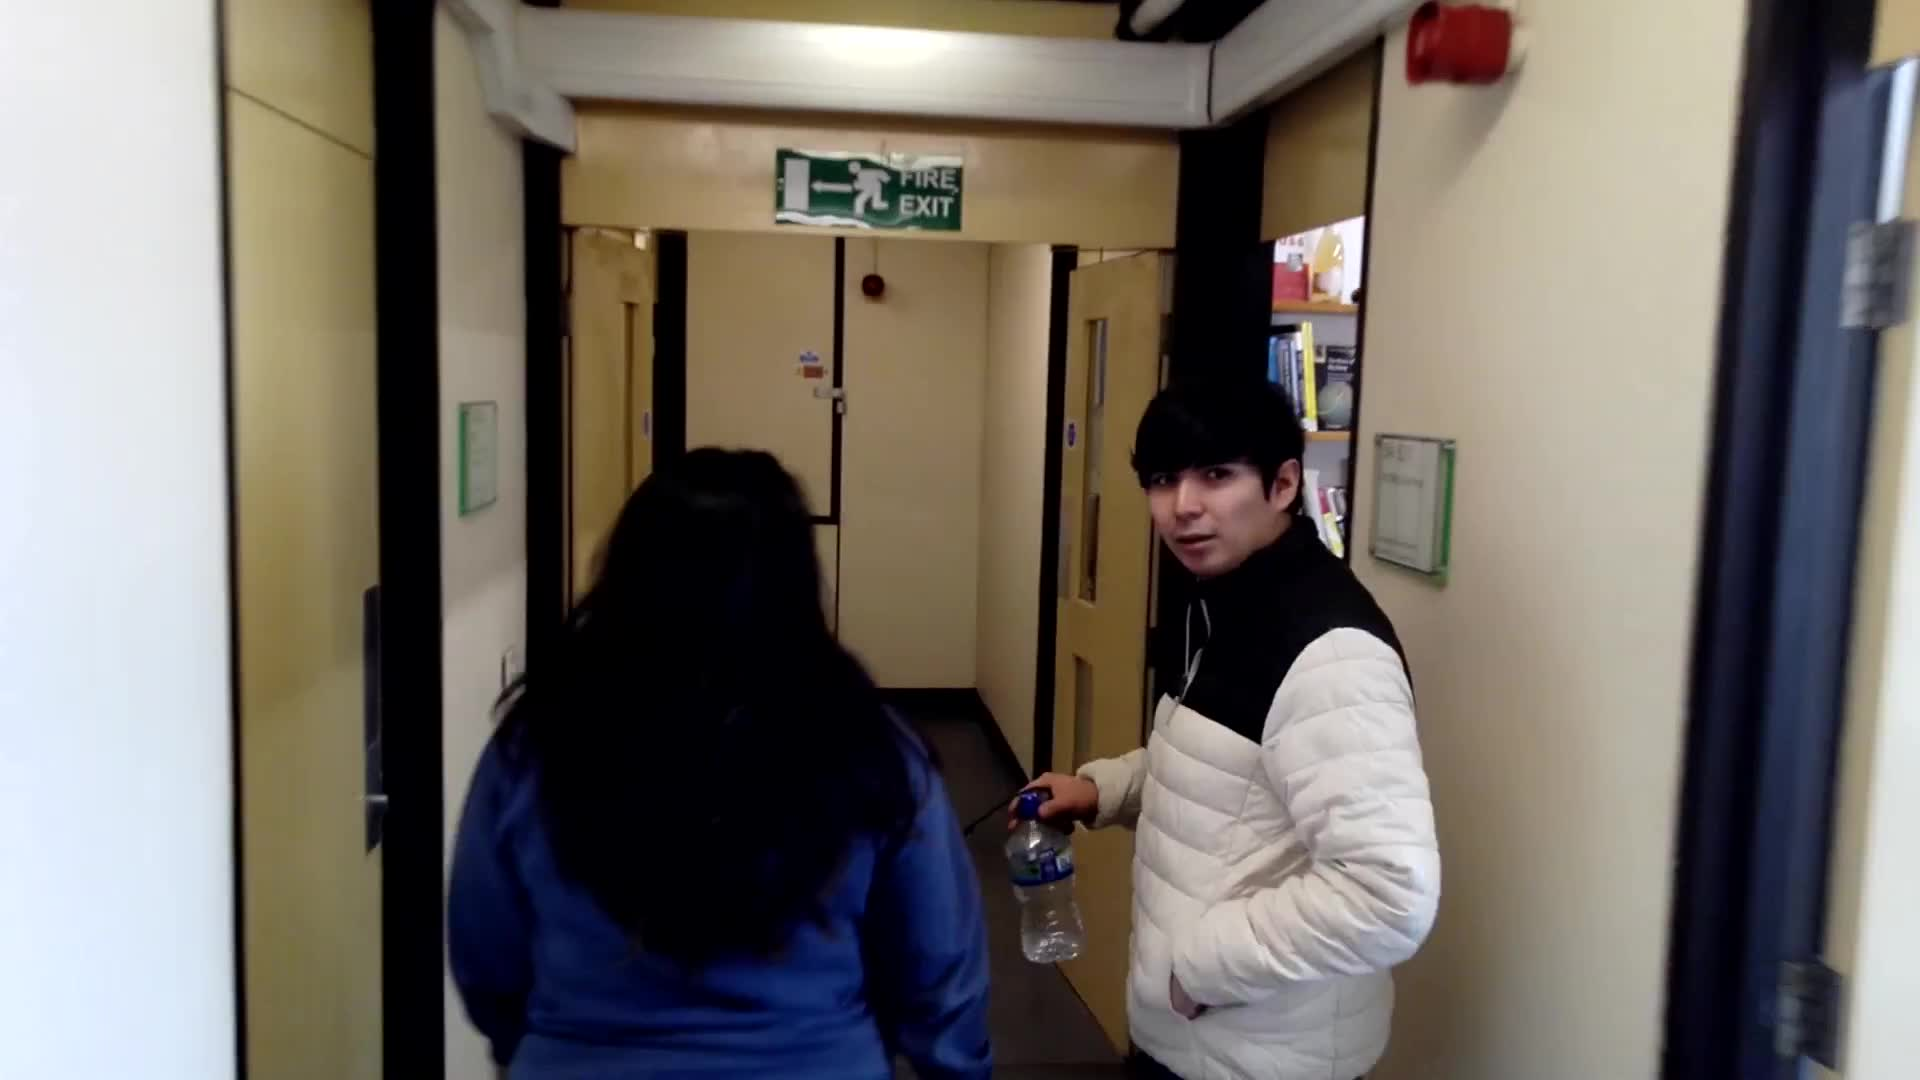Door: (202, 77, 452, 1080)
Person: (510, 435, 992, 1080), (1096, 377, 1446, 1066)
